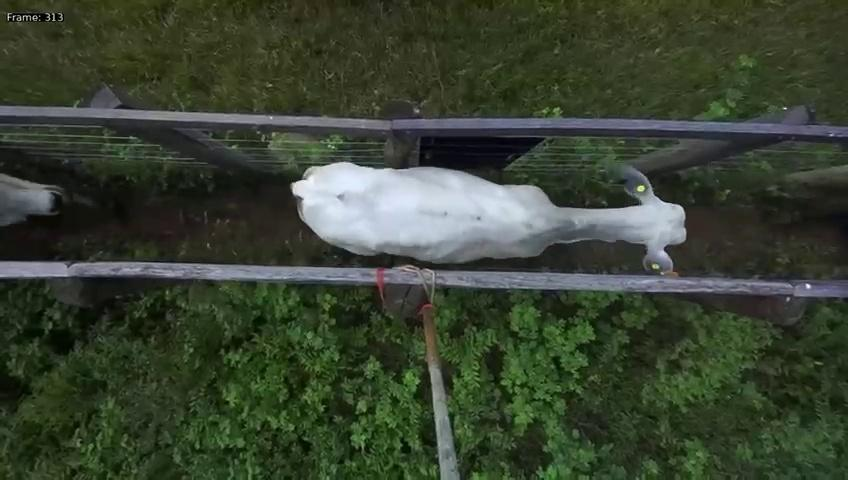cattle: (288, 151, 687, 274)
